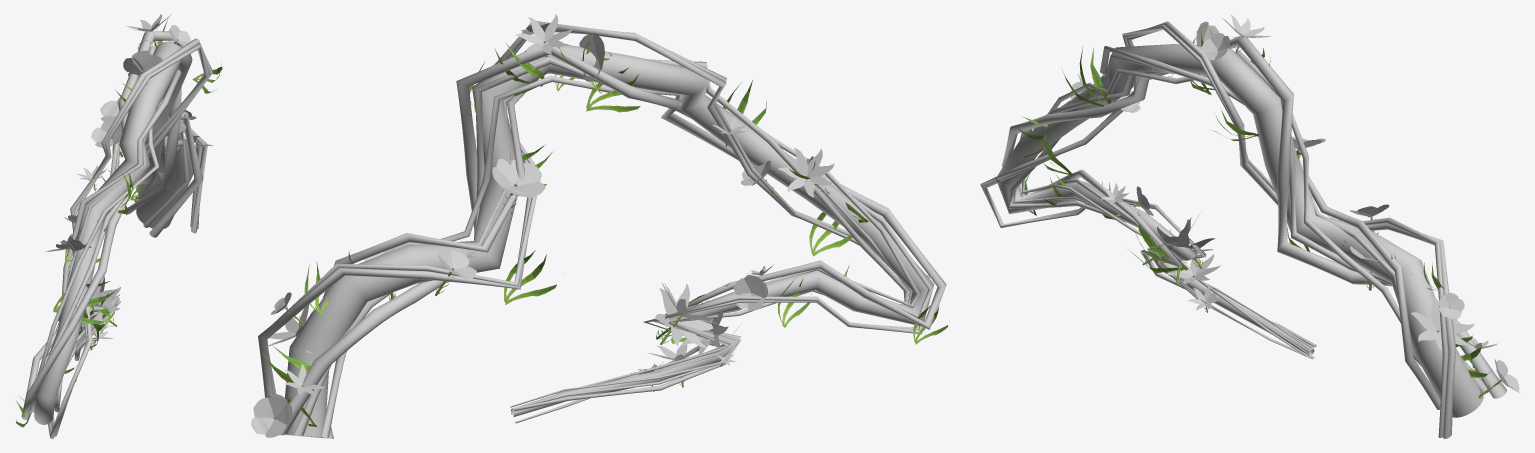
Rendered from vine_v2 2.fbx.
3 views of the same model, side by side, from view 1: azimuth 30°, elevation 25°; view 2: azimuth 150°, elevation 25°; view 3: azimuth 270°, elevation 25° (orthographic). The views are drawn at different scales.
Parts seen in each view (by area): view 1: Object.001; view 2: Object.001; view 3: Object.001.
Boxes of the visible parts, x1,y1,x2,y2 form: Object.001: (15,14,222,438); Object.001: (251,14,948,438); Object.001: (980,14,1520,438).
Size of the model in its own units: 1135 by 885 by 1245.
